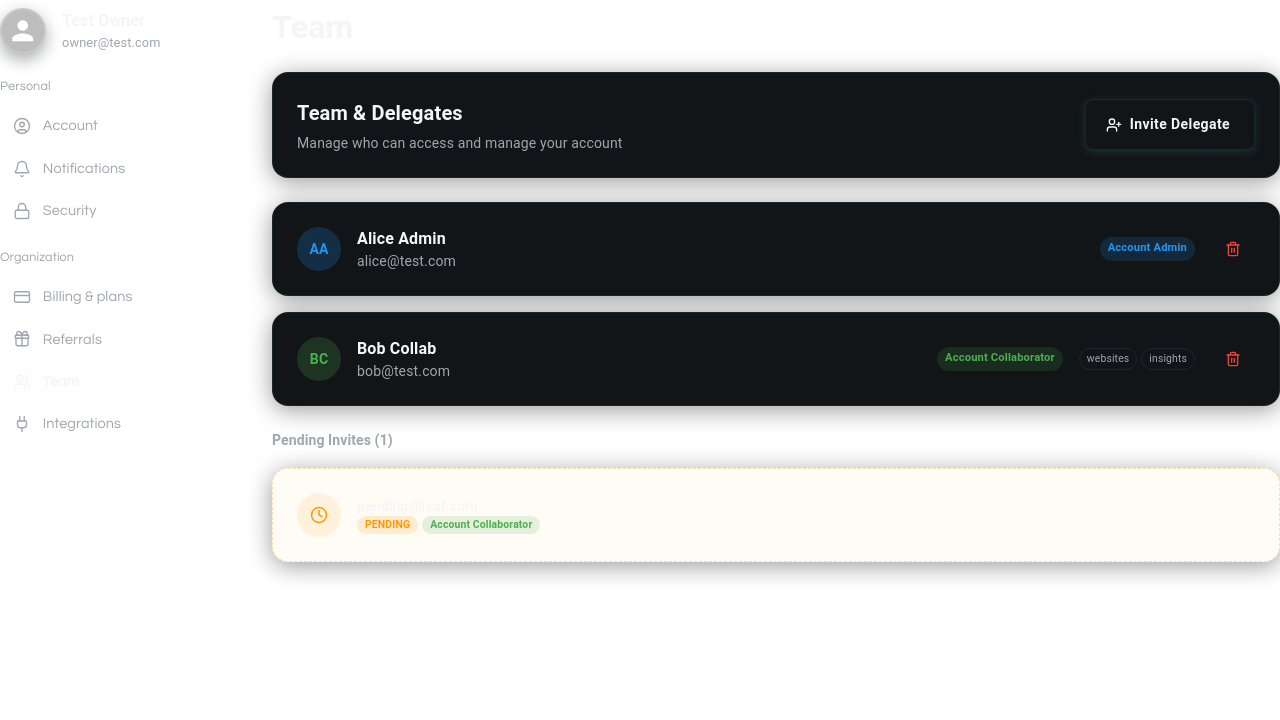
Test case: AccountDelegateTeamTab › revoke delegate shows confirmation dialog
Expected: the text "Alice Admin" is shown, [357,228,446,248]
Click the button named "revoke" at (1233, 248), box [1211,226,1255,270]
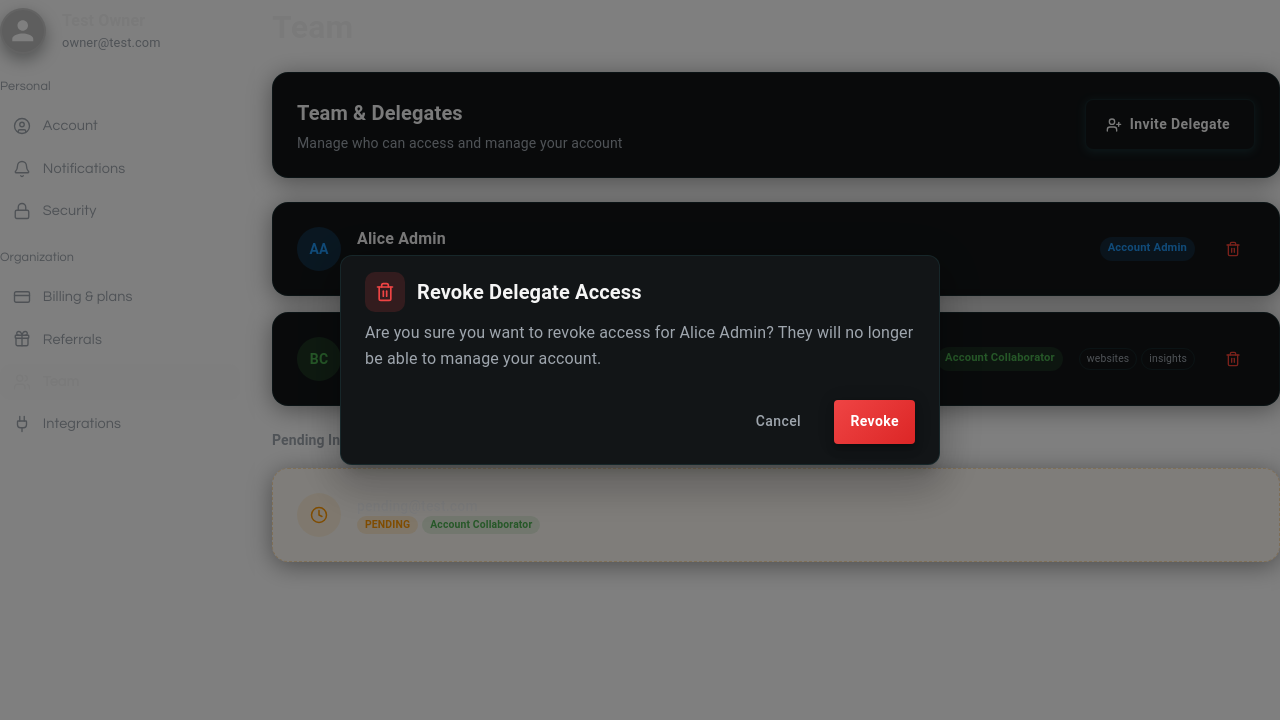
Now the text "Are you sure" is shown, box [365,323,913,368]
